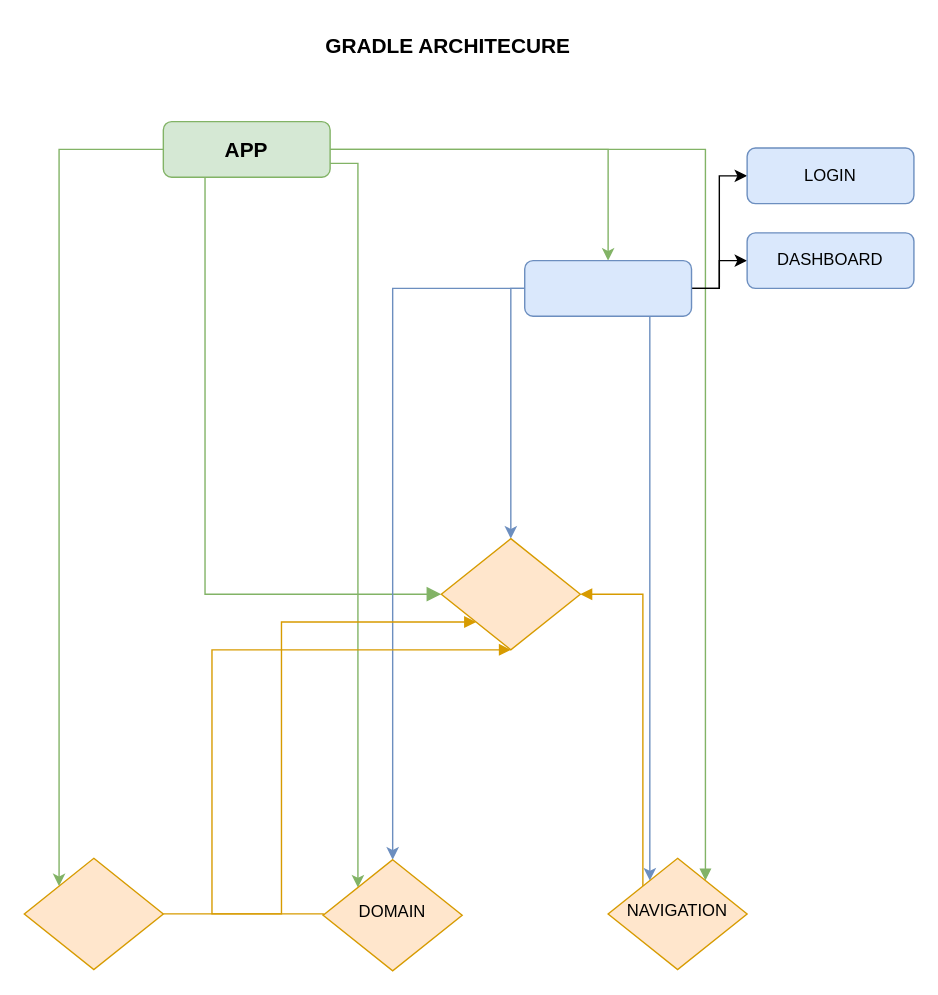
Image size: 938x995. Some labels were removed from this diagram. The shapes that lost their labels are listed below. From the top down, each one's centre as x and y in pixels, then its label:
the point at 607,287: FEATURES
the point at 510,593: CORE
the point at 93,913: DATA
